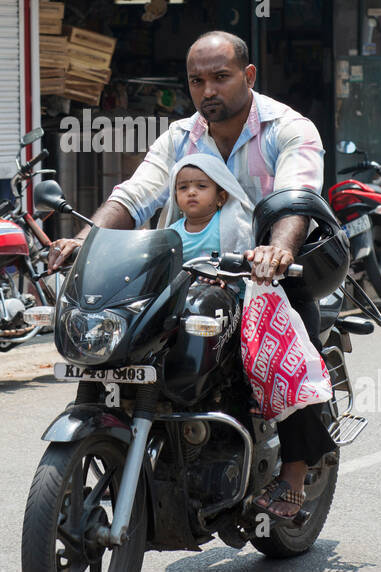motor: (27, 177, 355, 570)
no helmet: (186, 30, 257, 124), (168, 160, 222, 221)
number: (54, 362, 156, 385)
